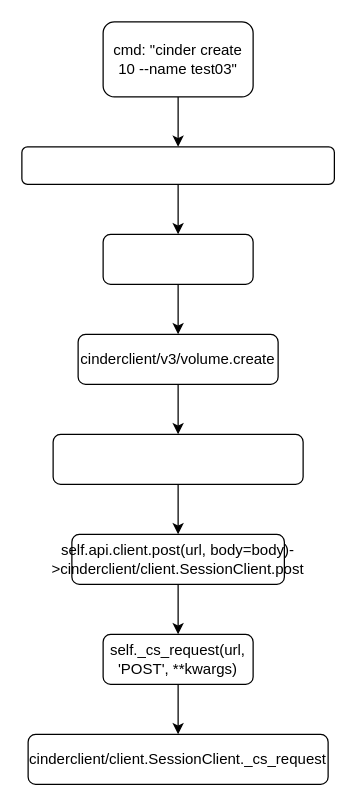
The diagram is 356 pixels wide and 806 high, and some of its shapes have lost their labels. The centre of each missing label's shape, as x and y in pixels:
/cinderclient/shell->/cinderclient/v3/shell.do_create: point 177,165
cinderclient/base.py/Manager._create: point 177,458
cs.volumes.create: point 177,258
